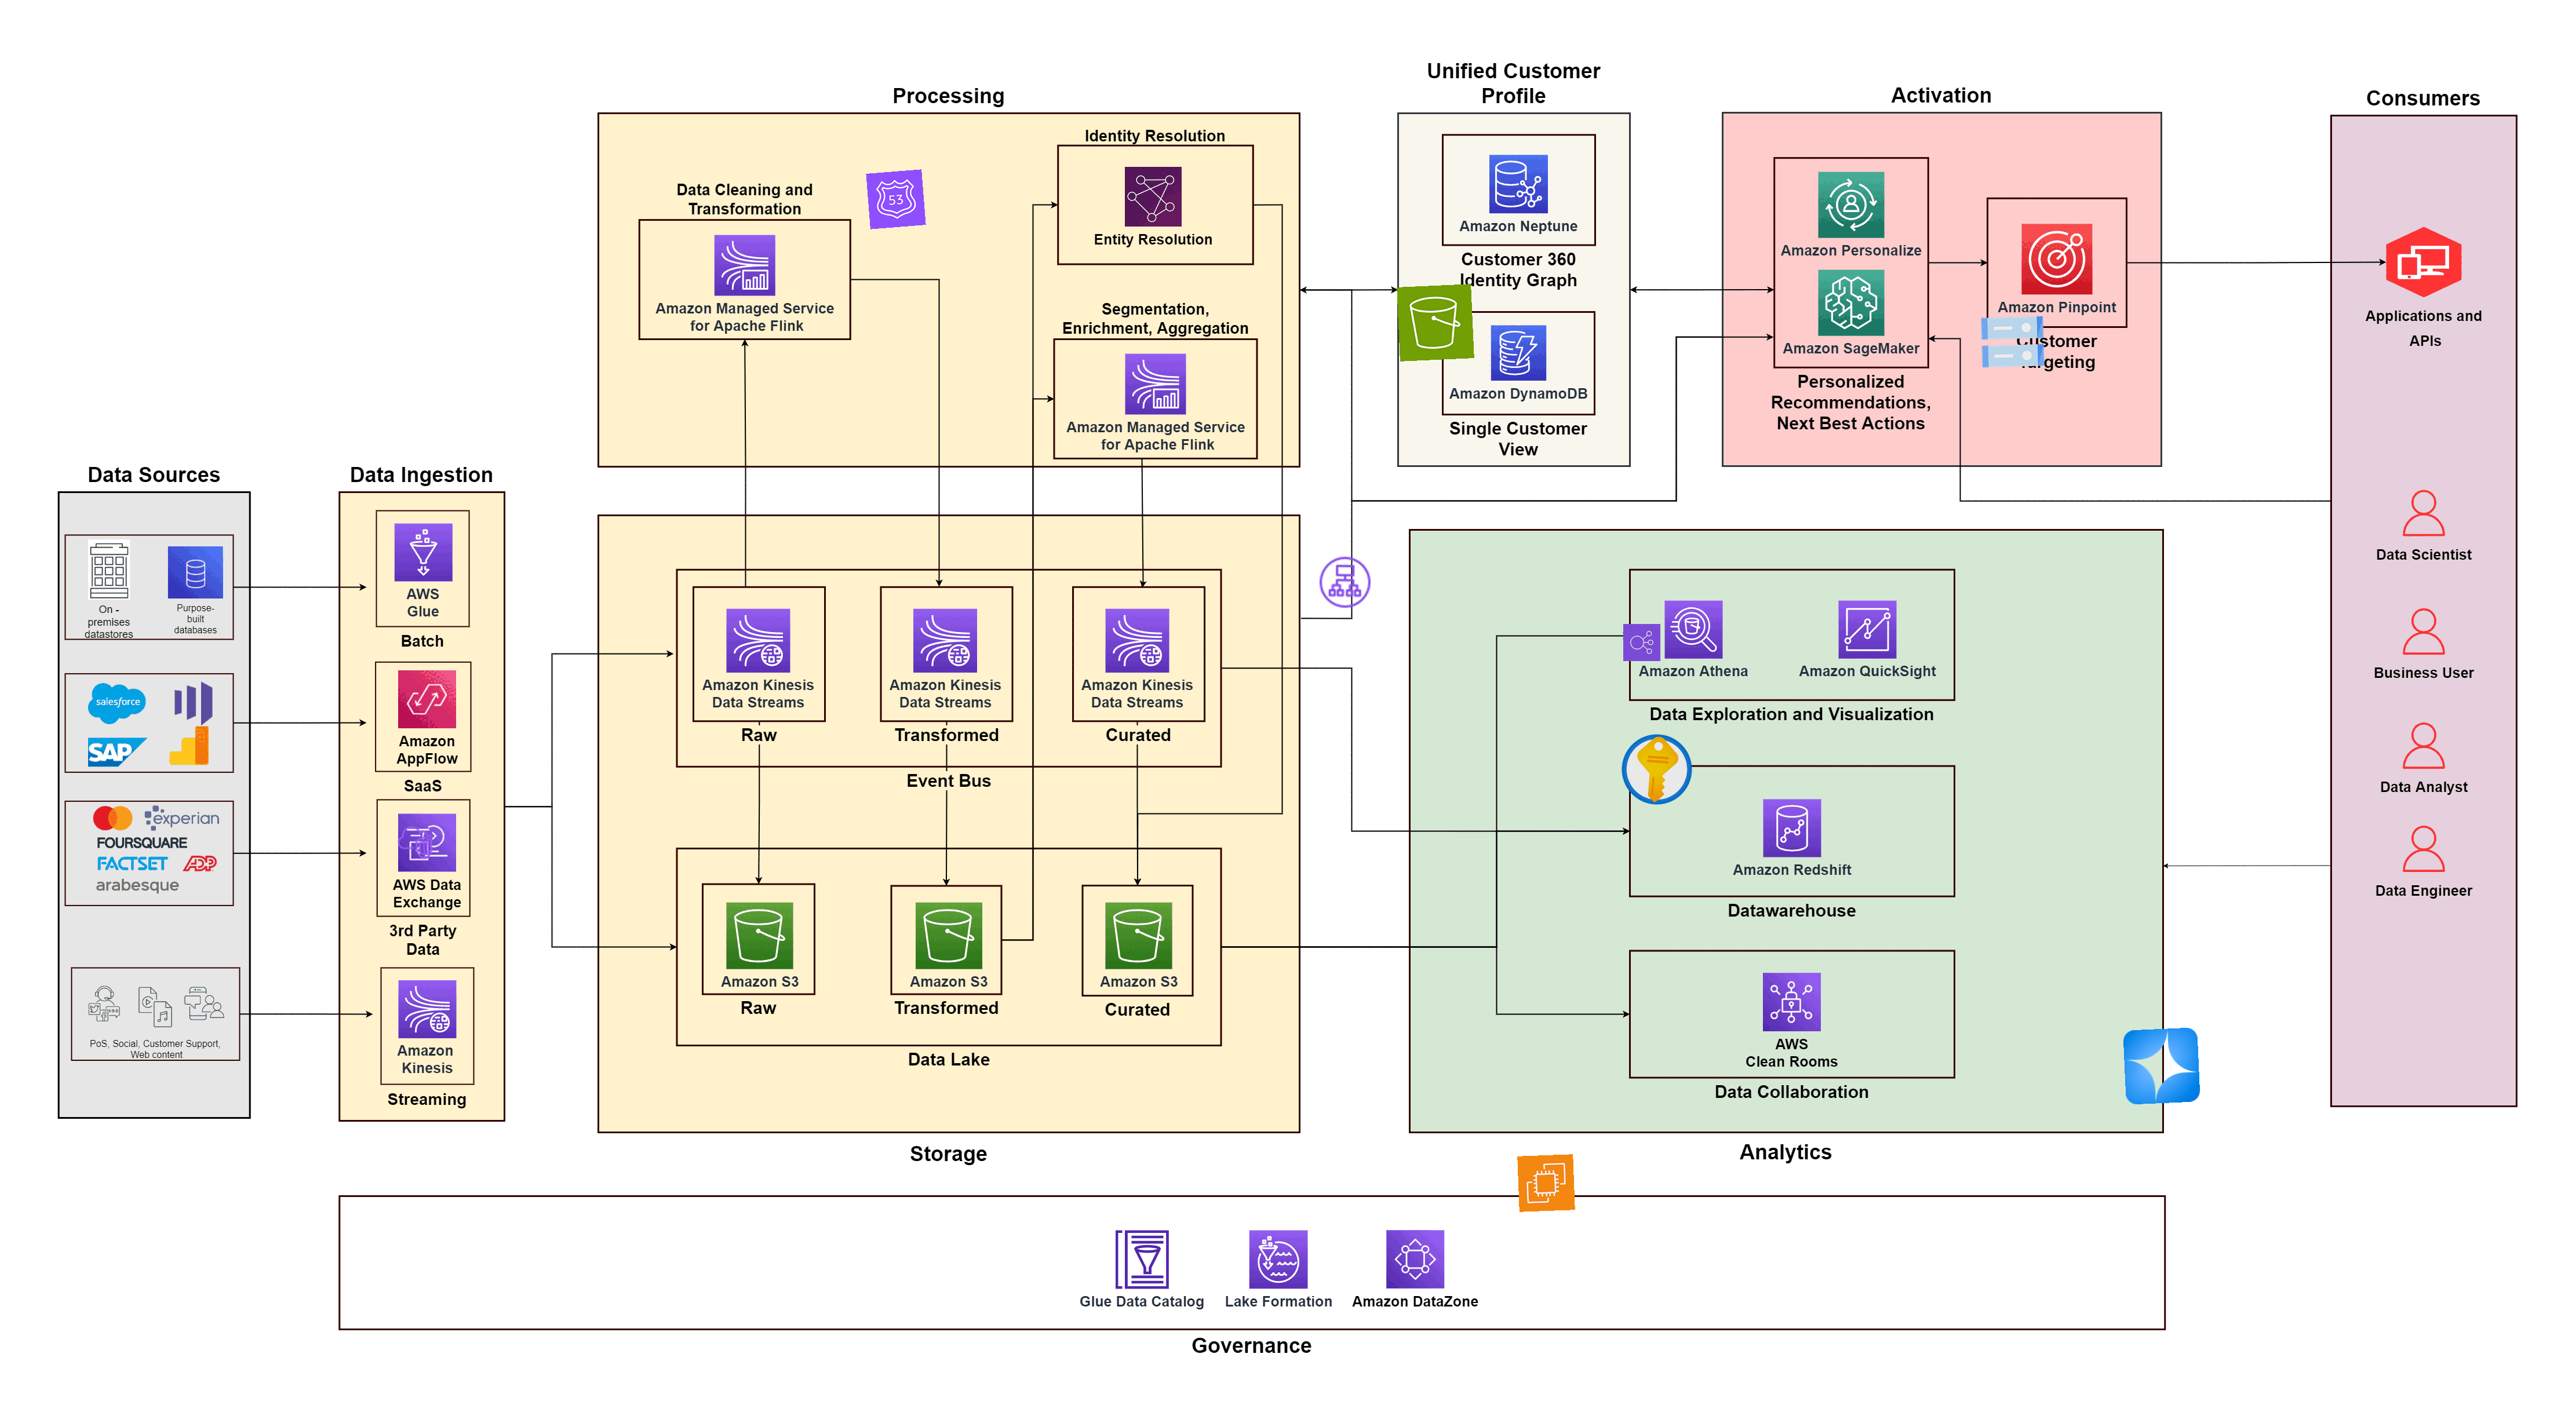aws_amazon_ec2: (1517, 1154, 1575, 1212)
aws_amazon_route_53: (865, 169, 926, 230)
aws_amazon_simple_storage_service: (1397, 284, 1474, 361)
aws_elastic_load_balancing: (1622, 623, 1660, 661)
aws_elastic_load_balancing_application_load_balancer: (1317, 555, 1374, 610)
aws_vpc_virtual_private_cloud_vpc: (396, 823, 434, 861)
azure_key_vaults: (1617, 729, 1697, 809)
azure_openai: (2123, 1027, 2201, 1106)
gcp_cloud_storage: (1974, 303, 2051, 380)
